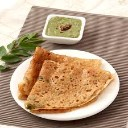dosa: (19, 46, 112, 107)
